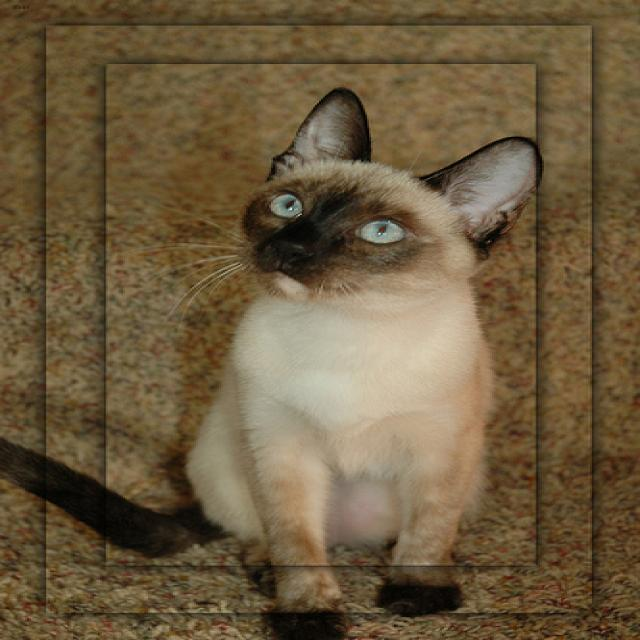Siamese: (238, 86, 540, 301)
